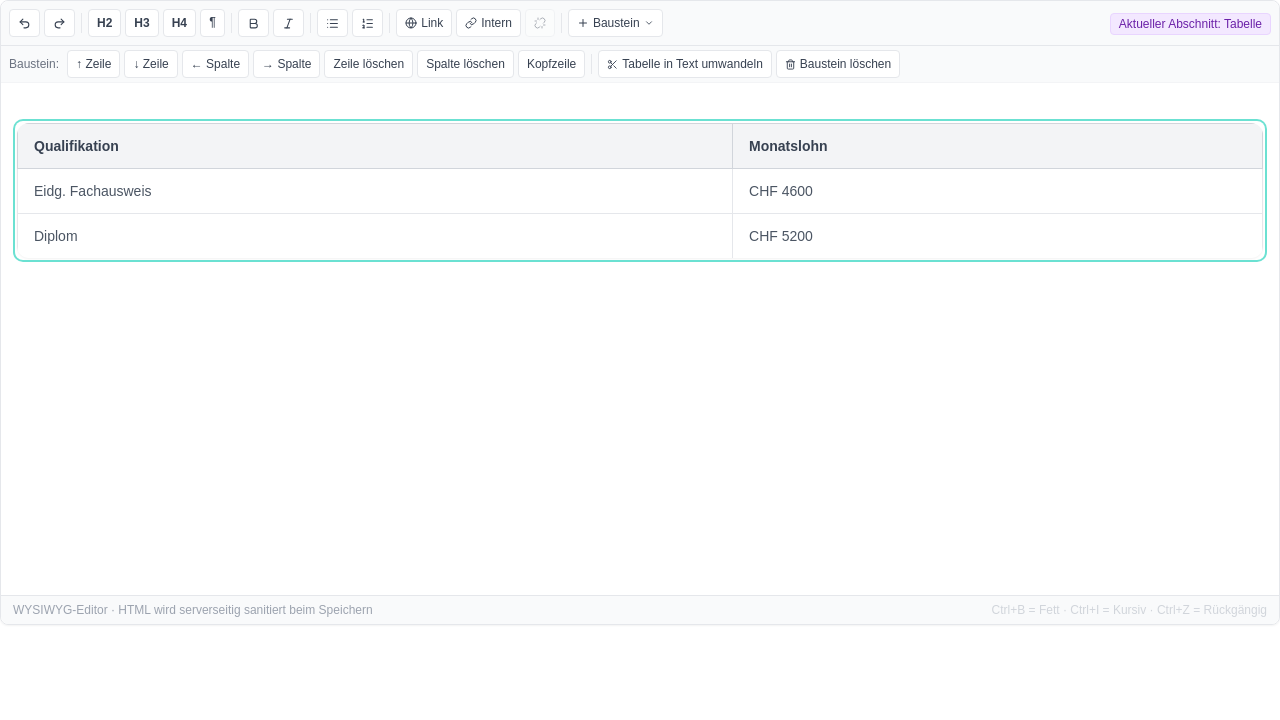
Test: 13–18 – Zeilen und Spalten sicher löschen › 16 – gefüllte Spalte: Bestätigen löscht und meldet genau einmal
The image size is (1280, 720).
Press the mouse on the button with test id "btn-del-col" at point(466, 64), box [417,50,514,78]
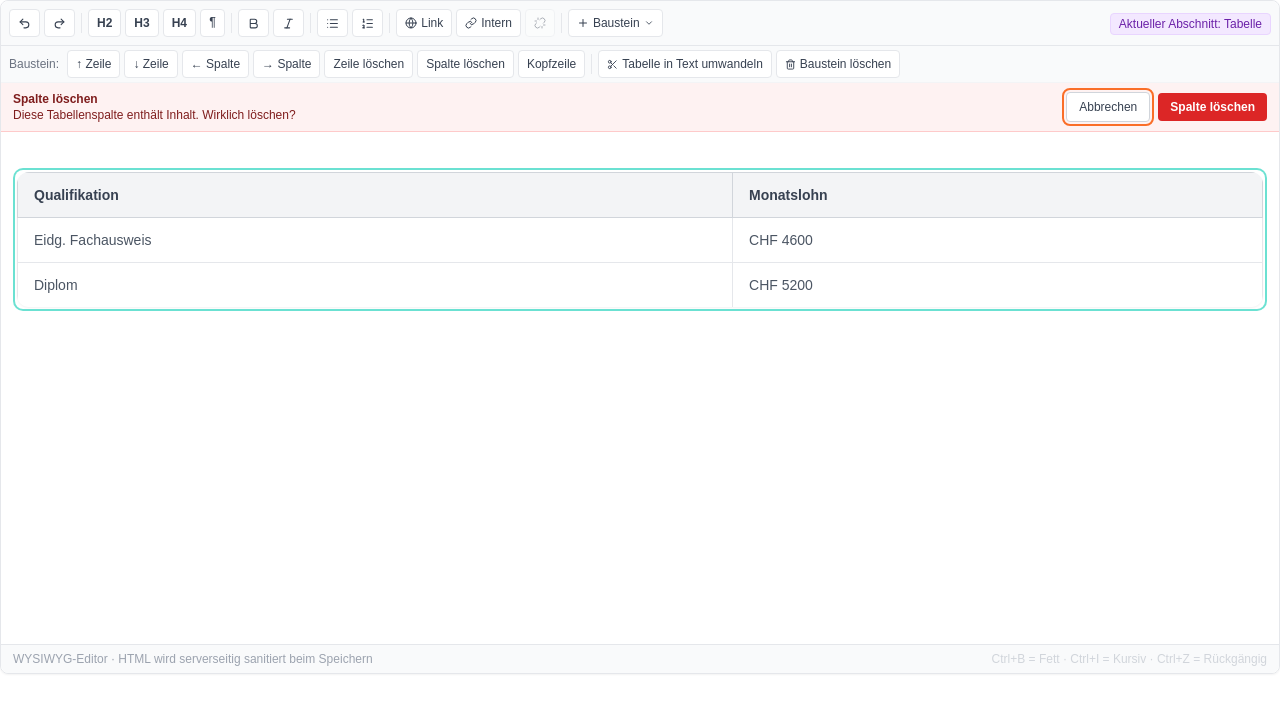
Click the button with test id "block-confirm-accept".
click(1213, 107)  # box [1158,93,1267,121]
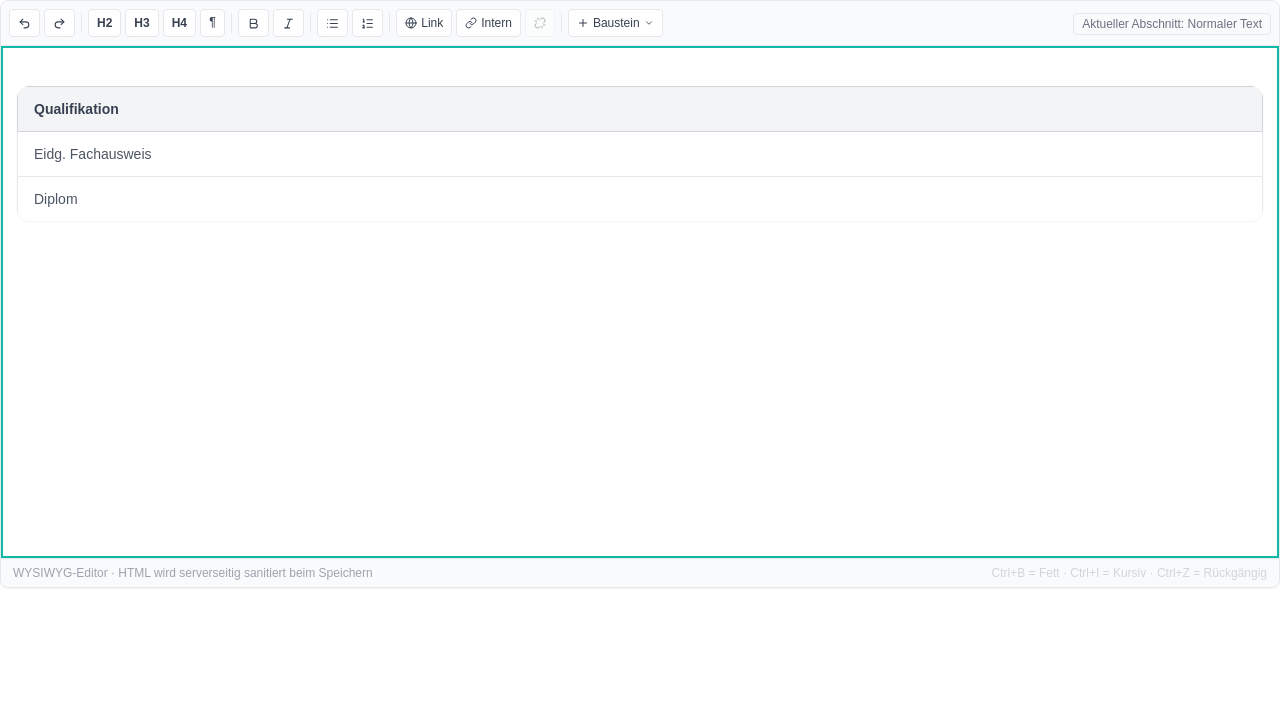
expect the number of column headings is 1: met, box [18,86,1262,132]
expect the cell with test id "test-editor" no longer shows "CHF 4600": met
